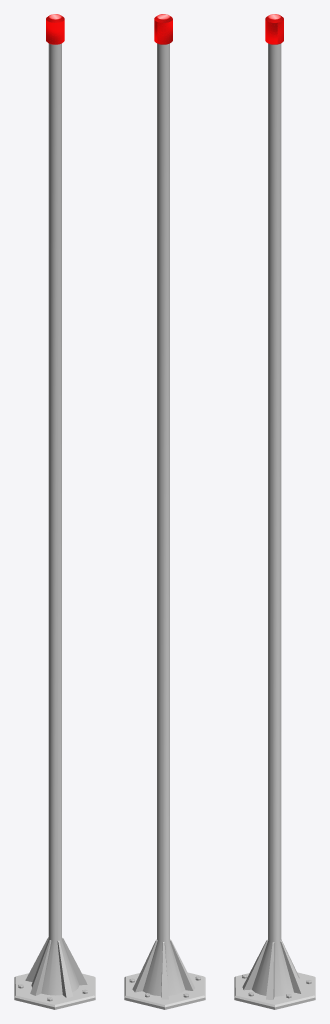
Rendered from KB3D_CBP_Antenna_R.fbx.
3 views of the same model, side by side, from view 1: azimuth 90°, elevation 25°; view 2: azimuth 210°, elevation 25°; view 3: azimuth 270°, elevation 25° (orthographic).
Parts seen in each view (by area): view 1: KB3D_CBP_Antenna_R_Main; view 2: KB3D_CBP_Antenna_R_Main; view 3: KB3D_CBP_Antenna_R_Main.
Boxes of the visible parts, <box> form: KB3D_CBP_Antenna_R_Main: <box>14,14,95,1009</box>; KB3D_CBP_Antenna_R_Main: <box>124,14,205,1009</box>; KB3D_CBP_Antenna_R_Main: <box>234,14,315,1009</box>.
Size of the model in its own units: 134 by 1528 by 116.
